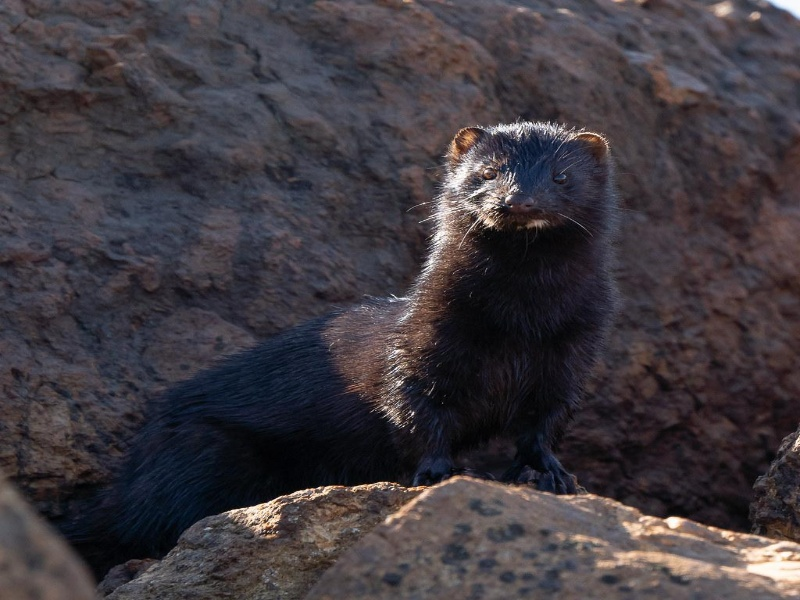minkish: (69, 121, 626, 578)
